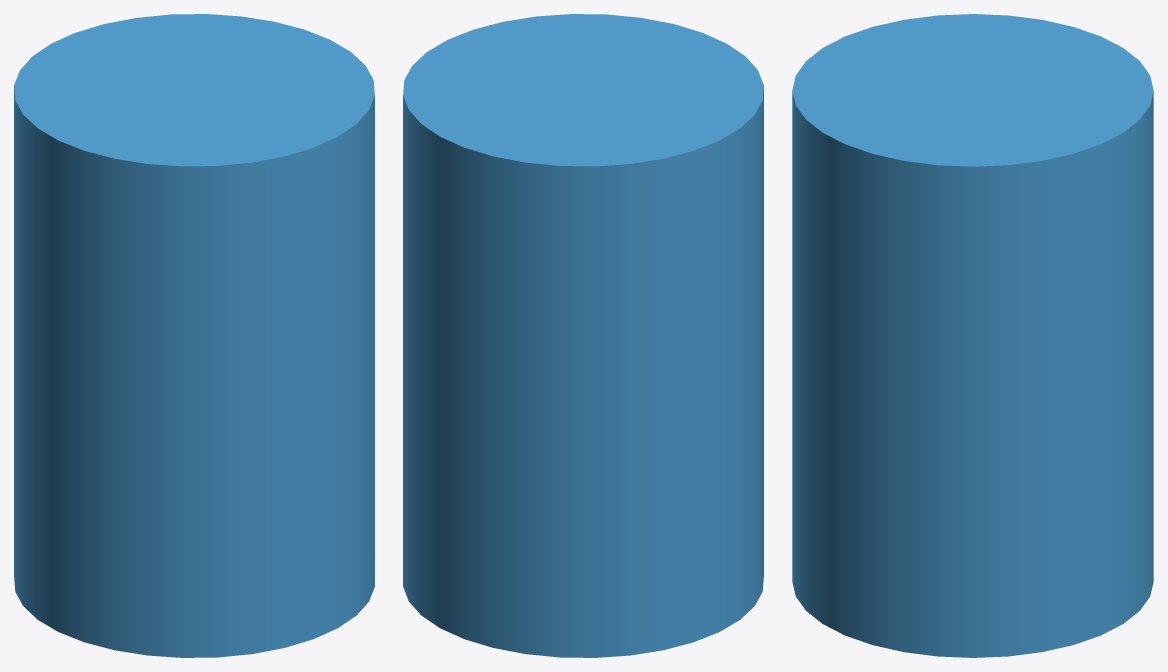
File: water.glb
3 renders of one model, left to right at view 1: azimuth 30°, elevation 25°; view 2: azimuth 150°, elevation 25°; view 3: azimuth 270°, elevation 25°, orthographic.
Bounding box in the file's own units: 2 × 3 × 2.
